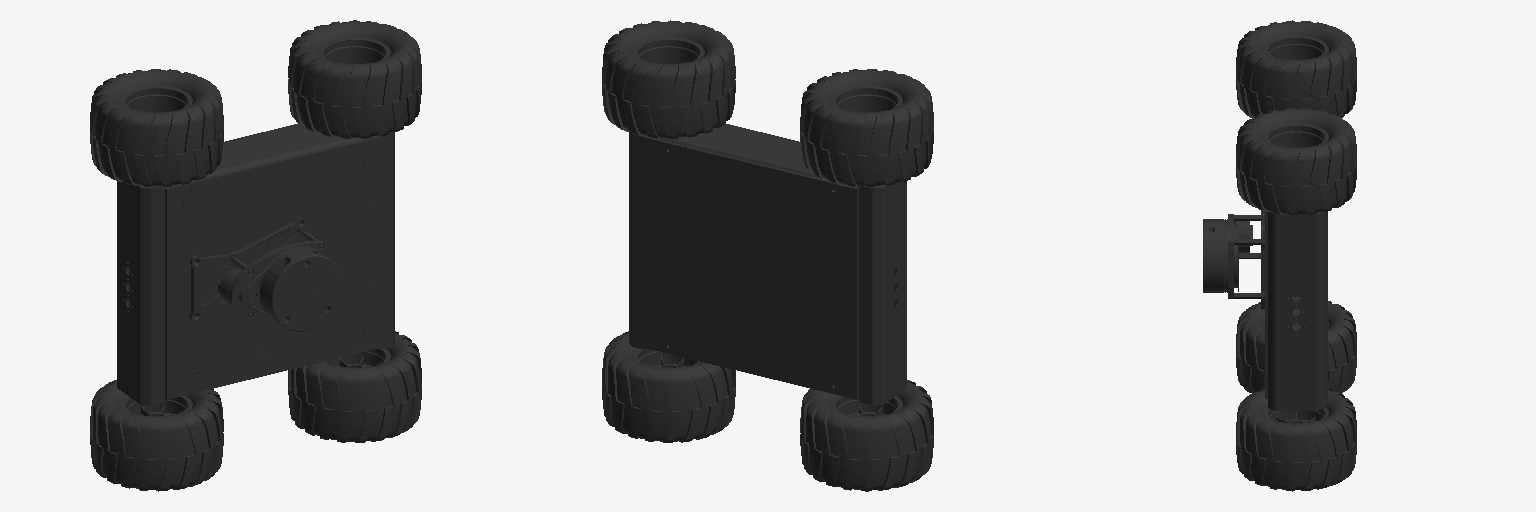
The robot description file, URDF, robot "00-Rover_Lidar_Assembly.SLDASM":
<?xml version="1.0" encoding="utf-8"?>
<!-- This URDF was automatically created by SolidWorks to URDF Exporter! Originally created by [author] ([email redacted]) 
     Commit Version: 1.6.0-1-g15f4949  Build Version: 1.6.7594.29634
     For more information, please see http://wiki.ros.org/sw_urdf_exporter -->
<robot
  name="00-Rover_Lidar_Assembly.SLDASM">
  <link
    name="Base">
    <inertial>
      <origin
        xyz="-0.012819 -0.01867 0.19893"
        rpy="0 0 0" />
      <mass
        value="0.60436" />
      <inertia
        ixx="0.0012842"
        ixy="-7.8731E-07"
        ixz="-3.6231E-06"
        iyy="0.001592"
        iyz="2.0735E-07"
        izz="0.0027161" />
    </inertial>
    <visual>
      <origin
        xyz="0 0 0"
        rpy="0 0 0" />
      <geometry>
        <mesh
          filename="package://00-Rover_Lidar_Assembly.SLDASM/meshes/Base.STL" />
      </geometry>
      <material
        name="">
        <color
          rgba="0.25098 0.25098 0.25098 1" />
      </material>
    </visual>
    <collision>
      <origin
        xyz="0 0 0"
        rpy="0 0 0" />
      <geometry>
        <mesh
          filename="package://00-Rover_Lidar_Assembly.SLDASM/meshes/Base.STL" />
      </geometry>
    </collision>
  </link>
  <link
    name="Wheel_FR">
    <inertial>
      <origin
        xyz="0.0038039 1.5099E-10 -1.4017E-10"
        rpy="0 0 0" />
      <mass
        value="0.47503" />
      <inertia
        ixx="0.00087174"
        ixy="1.0142E-12"
        ixz="5.9746E-13"
        iyy="0.00058198"
        iyz="4.7881E-12"
        izz="0.00058198" />
    </inertial>
    <visual>
      <origin
        xyz="0 0 0"
        rpy="0 0 0" />
      <geometry>
        <mesh
          filename="package://00-Rover_Lidar_Assembly.SLDASM/meshes/Wheel_FR.STL" />
      </geometry>
      <material
        name="">
        <color
          rgba="0.25098 0.25098 0.25098 1" />
      </material>
    </visual>
    <collision>
      <origin
        xyz="0 0 0"
        rpy="0 0 0" />
      <geometry>
        <mesh
          filename="package://00-Rover_Lidar_Assembly.SLDASM/meshes/Wheel_FR.STL" />
      </geometry>
    </collision>
  </link>
  <joint
    name="Wheel_FR"
    type="revolute">
    <origin
      xyz="0.086547 -0.182 -0.15755"
      rpy="1.5708 1.5708 0" />
    <parent
      link="Base" />
    <child
      link="Wheel_FR" />
    <axis
      xyz="0 0 0" />
    <limit
      lower="0"
      upper="0"
      effort="0"
      velocity="0" />
  </joint>
  <link
    name="Wheel_FL">
    <inertial>
      <origin
        xyz="0.0038039 1.5099E-10 -1.4017E-10"
        rpy="0 0 0" />
      <mass
        value="0.47503" />
      <inertia
        ixx="0.00087174"
        ixy="1.0142E-12"
        ixz="5.9746E-13"
        iyy="0.00058198"
        iyz="4.7881E-12"
        izz="0.00058198" />
    </inertial>
    <visual>
      <origin
        xyz="0 0 0"
        rpy="0 0 0" />
      <geometry>
        <mesh
          filename="package://00-Rover_Lidar_Assembly.SLDASM/meshes/Wheel_FL.STL" />
      </geometry>
      <material
        name="">
        <color
          rgba="0.25098 0.25098 0.25098 1" />
      </material>
    </visual>
    <collision>
      <origin
        xyz="0 0 0"
        rpy="0 0 0" />
      <geometry>
        <mesh
          filename="package://00-Rover_Lidar_Assembly.SLDASM/meshes/Wheel_FL.STL" />
      </geometry>
    </collision>
  </link>
  <joint
    name="Wheel_FL"
    type="revolute">
    <origin
      xyz="0.086547 -0.182 0.12045"
      rpy="1.5708 -1.5708 0" />
    <parent
      link="Base" />
    <child
      link="Wheel_FL" />
    <axis
      xyz="0 0 0" />
    <limit
      lower="0"
      upper="0"
      effort="0"
      velocity="0" />
  </joint>
  <link
    name="Wheel_BR">
    <inertial>
      <origin
        xyz="0.0038039 1.5099E-10 -1.4017E-10"
        rpy="0 0 0" />
      <mass
        value="0.47503" />
      <inertia
        ixx="0.00087174"
        ixy="1.0142E-12"
        ixz="5.9746E-13"
        iyy="0.00058198"
        iyz="4.7881E-12"
        izz="0.00058198" />
    </inertial>
    <visual>
      <origin
        xyz="0 0 0"
        rpy="0 0 0" />
      <geometry>
        <mesh
          filename="package://00-Rover_Lidar_Assembly.SLDASM/meshes/Wheel_BR.STL" />
      </geometry>
      <material
        name="">
        <color
          rgba="0.25098 0.25098 0.25098 1" />
      </material>
    </visual>
    <collision>
      <origin
        xyz="0 0 0"
        rpy="0 0 0" />
      <geometry>
        <mesh
          filename="package://00-Rover_Lidar_Assembly.SLDASM/meshes/Wheel_BR.STL" />
      </geometry>
    </collision>
  </link>
  <joint
    name="Wheel_BR"
    type="revolute">
    <origin
      xyz="-0.10845 -0.182 -0.15755"
      rpy="1.5708 1.5708 0" />
    <parent
      link="Base" />
    <child
      link="Wheel_BR" />
    <axis
      xyz="0 0 0" />
    <limit
      lower="0"
      upper="0"
      effort="0"
      velocity="0" />
  </joint>
  <link
    name="Wheel_BL">
    <inertial>
      <origin
        xyz="0.0038039 1.5099E-10 -1.4017E-10"
        rpy="0 0 0" />
      <mass
        value="0.47503" />
      <inertia
        ixx="0.00087174"
        ixy="1.0142E-12"
        ixz="5.9746E-13"
        iyy="0.00058198"
        iyz="4.7881E-12"
        izz="0.00058198" />
    </inertial>
    <visual>
      <origin
        xyz="0 0 0"
        rpy="0 0 0" />
      <geometry>
        <mesh
          filename="package://00-Rover_Lidar_Assembly.SLDASM/meshes/Wheel_BL.STL" />
      </geometry>
      <material
        name="">
        <color
          rgba="0.25098 0.25098 0.25098 1" />
      </material>
    </visual>
    <collision>
      <origin
        xyz="0 0 0"
        rpy="0 0 0" />
      <geometry>
        <mesh
          filename="package://00-Rover_Lidar_Assembly.SLDASM/meshes/Wheel_BL.STL" />
      </geometry>
    </collision>
  </link>
  <joint
    name="Wheel_BL"
    type="revolute">
    <origin
      xyz="-0.10845 -0.182 0.12045"
      rpy="1.5708 -1.5708 0" />
    <parent
      link="Base" />
    <child
      link="Wheel_BL" />
    <axis
      xyz="0 0 0" />
    <limit
      lower="0"
      upper="0"
      effort="0"
      velocity="0" />
  </joint>
</robot>

--- Render facts (derived) ---
The picture shows the robot from 3 angles, left to right: view 1: azimuth 30°, elevation 25°; view 2: azimuth 150°, elevation 25°; view 3: azimuth 270°, elevation 25°; orthographic projection.
Model 00-Rover_Lidar_Assembly.SLDASM with 5 links and 4 joints (4 revolute), rooted at Base, posed all joints at 0.
Visible links, largest first — view 1: Base, Wheel_FL, Wheel_BL, Wheel_BR, Wheel_FR; view 2: Base, Wheel_FL, Wheel_BL, Wheel_BR, Wheel_FR; view 3: Base, Wheel_FL, Wheel_BL, Wheel_FR, Wheel_BR.
Link boxes in pixels (<box>): Base: <box>117,124,394,404</box>; Wheel_FL: <box>288,20,421,138</box>; Wheel_BL: <box>90,69,223,187</box>; Wheel_BR: <box>90,380,223,491</box>; Wheel_FR: <box>288,331,421,442</box>; Base: <box>629,123,906,404</box>; Wheel_FL: <box>602,20,735,138</box>; Wheel_BL: <box>800,69,933,187</box>; Wheel_BR: <box>800,380,933,491</box>; Wheel_FR: <box>602,331,735,442</box>; Base: <box>1203,210,1327,410</box>; Wheel_FL: <box>1236,108,1356,215</box>; Wheel_BL: <box>1236,20,1356,118</box>; Wheel_FR: <box>1236,388,1356,491</box>; Wheel_BR: <box>1236,301,1356,393</box>.
Size in the robot's own frame: 0.3092 by 0.1452 by 0.3534 metres.
5 mesh visuals loaded from 5 distinct referenced files (5 binary STL).